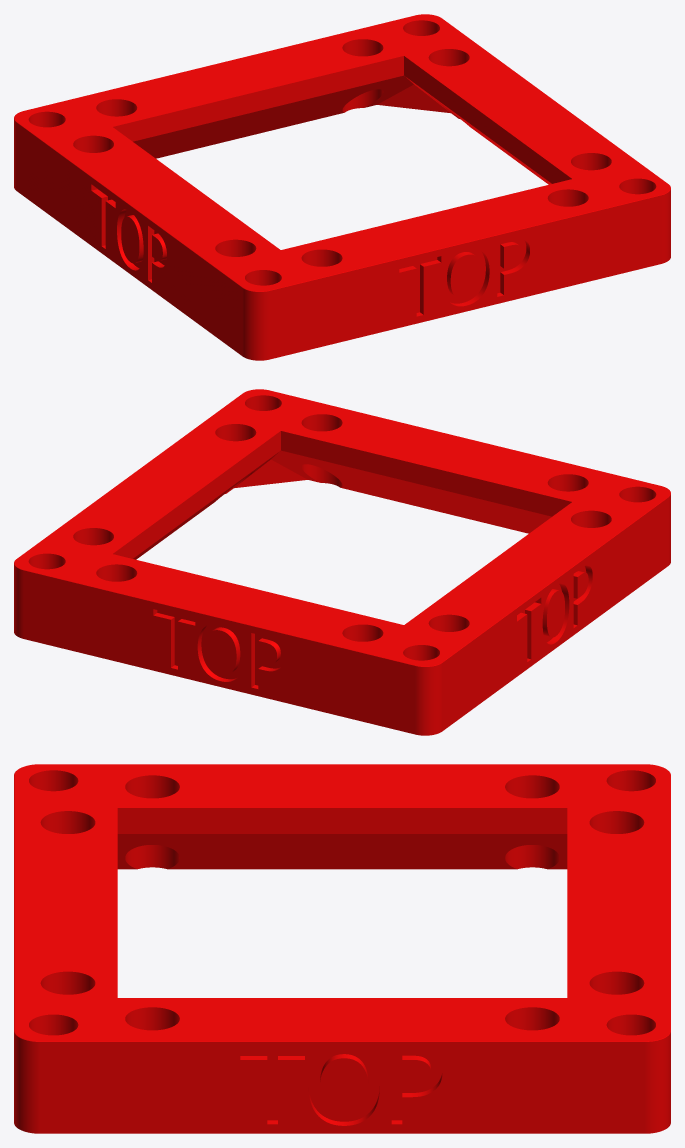
The model's file is V5_Cube 1x1 Top V5_1.obj.
The picture shows the model from 3 angles, top to bottom: view 1: azimuth 30°, elevation 25°; view 2: azimuth 150°, elevation 25°; view 3: azimuth 270°, elevation 25°; orthographic projection. The views are drawn at different scales.
Parts seen in each view (by area): view 1: Solid1:58; view 2: Solid1:58; view 3: Solid1:58.
Part boxes in pixels (x1,y1,x2,y2): Solid1:58: (14, 14, 670, 360); Solid1:58: (14, 389, 670, 735); Solid1:58: (14, 764, 670, 1133).
Bounding box in the file's own units: 49.8 × 7.7 × 49.8.
